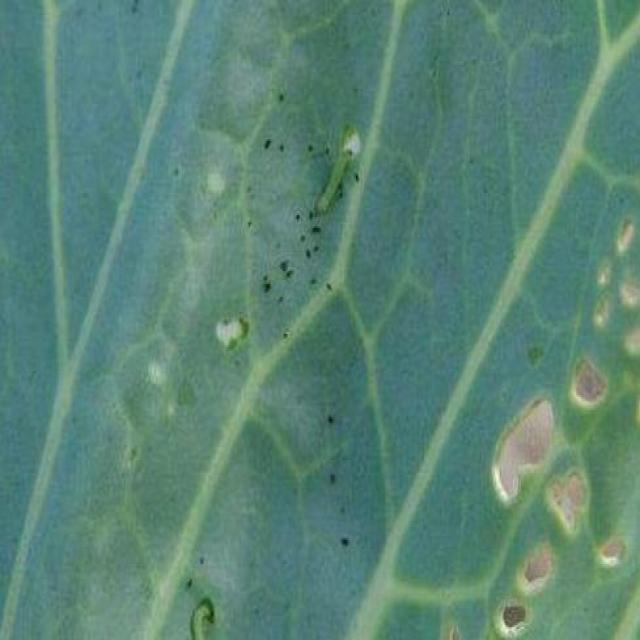armyworm: (321, 134, 359, 234)
